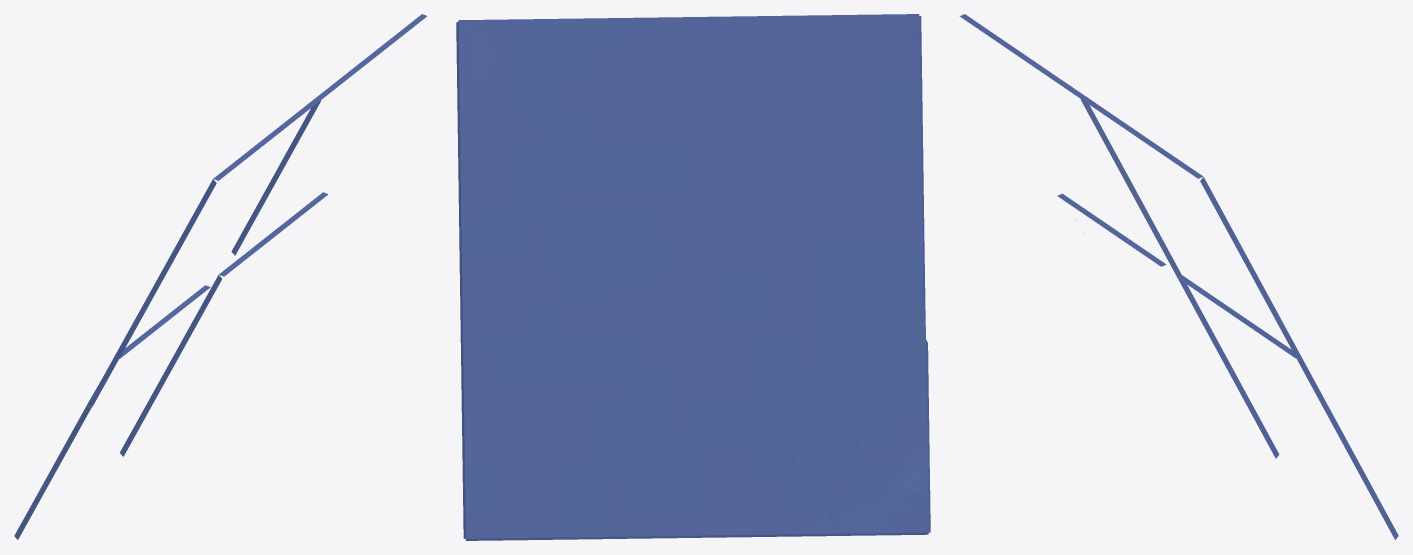
3 views of the same model, side by side, from view 1: azimuth 30°, elevation 25°; view 2: azimuth 150°, elevation 25°; view 3: azimuth 270°, elevation 25° (orthographic). The views are drawn at different scales.
Size of the model in its own units: 39550 by 35316 by 33942.
1 material, 1 textured.
